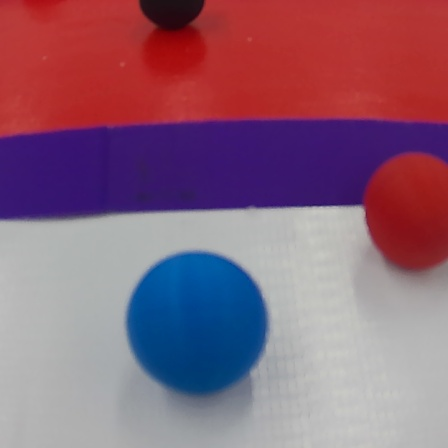blue: (121, 246, 269, 399)
red: (355, 149, 448, 271)
red_aim: (5, 3, 448, 231)
